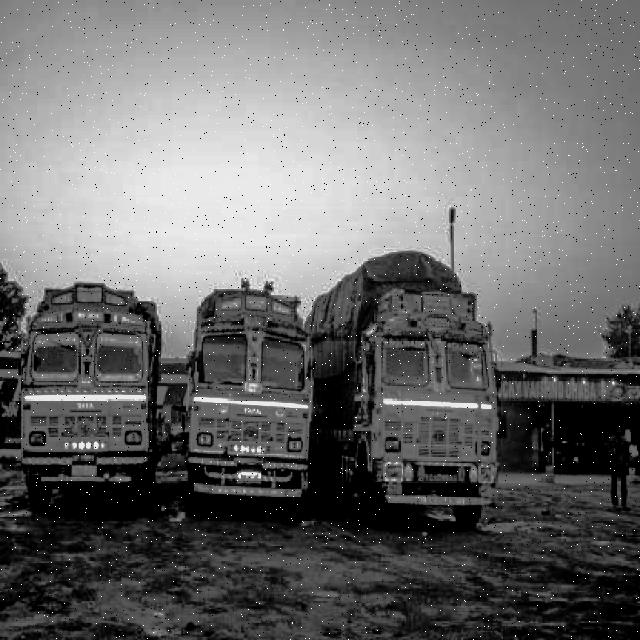HCV: (298, 270, 496, 518), (20, 302, 176, 488), (200, 302, 311, 512)
